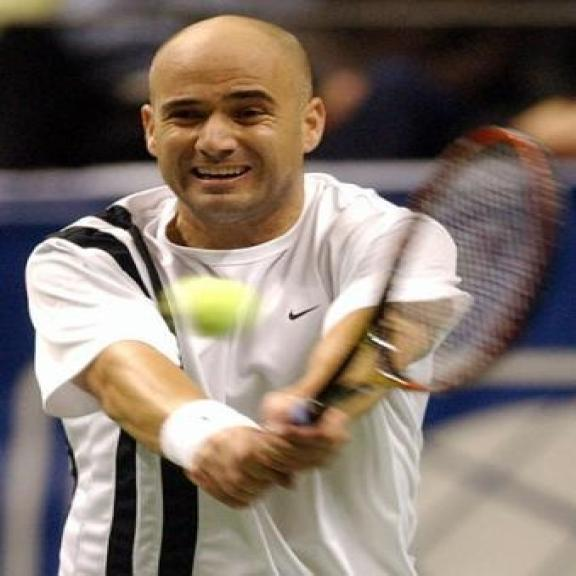face: (137, 20, 329, 224)
